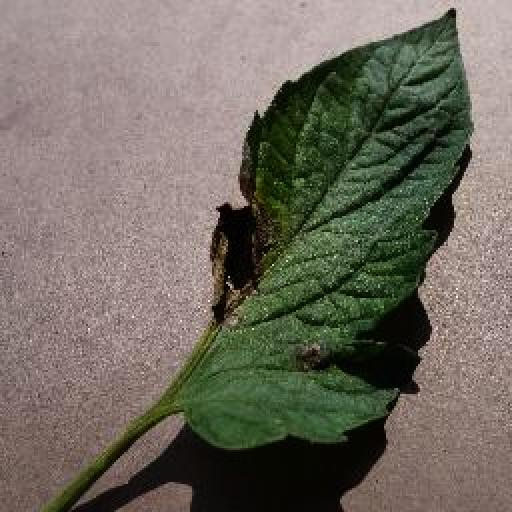disease_tomato: (178, 8, 476, 448)
